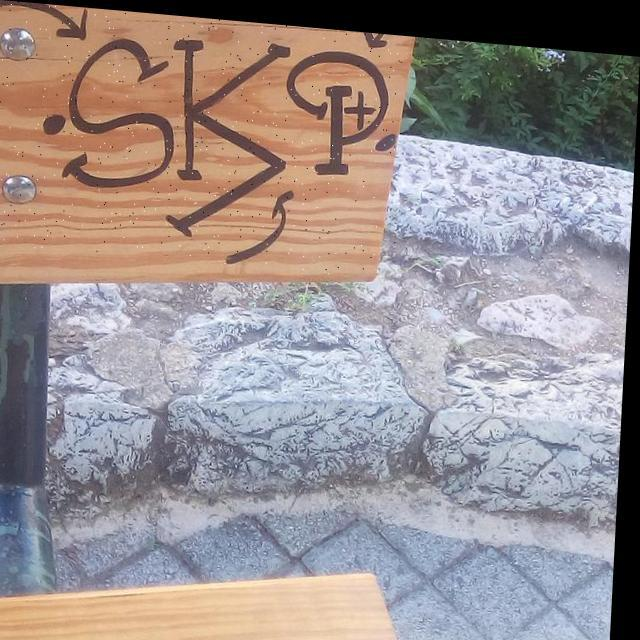-: (0, 0, 407, 272)
